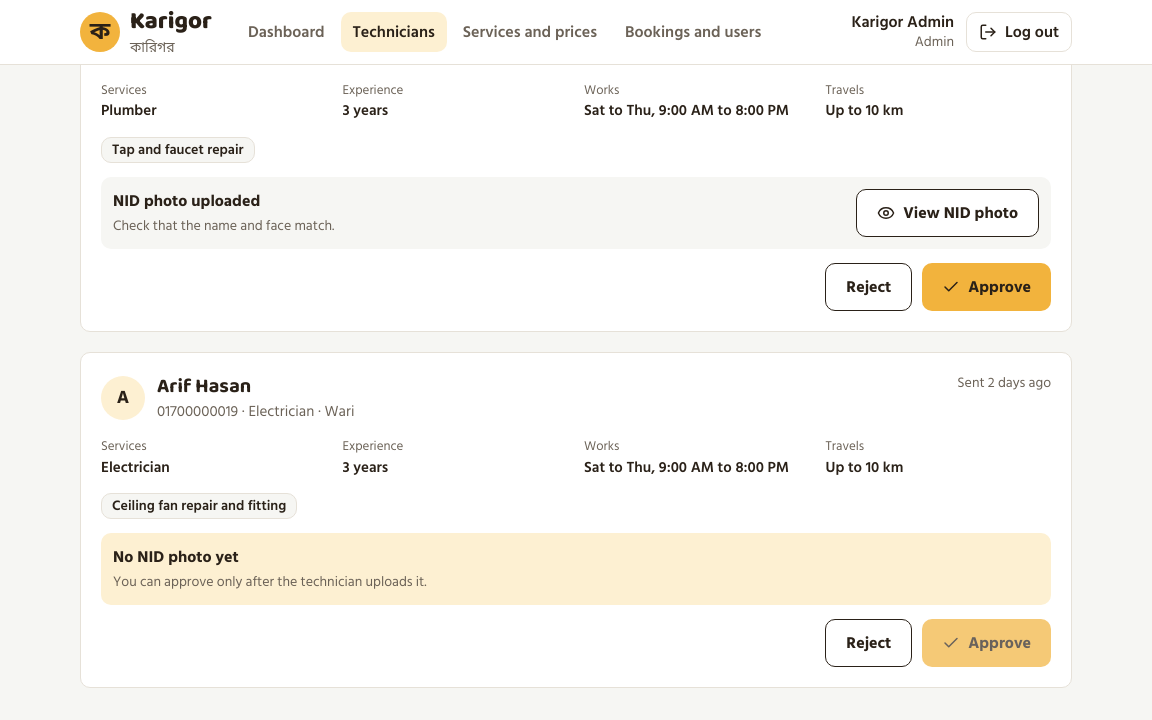
Test: waiting technicians › asks for a reason before rejecting
(page scrolled)
Expected: the element "Arif Hasan" is shown, [80,352,1072,688]
Click the 2nd button "Reject": [869, 643] box [825,619,912,667]
(page scrolled)
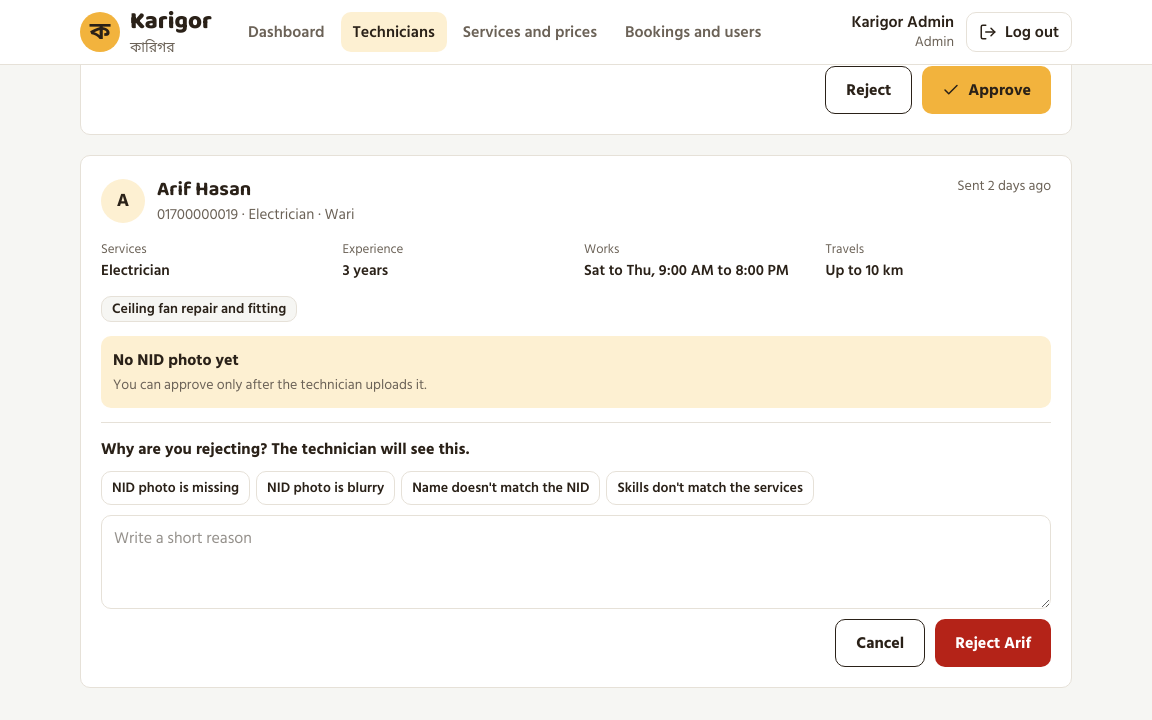
Click the button "Reject Arif": [993, 643] box [935,619,1051,667]
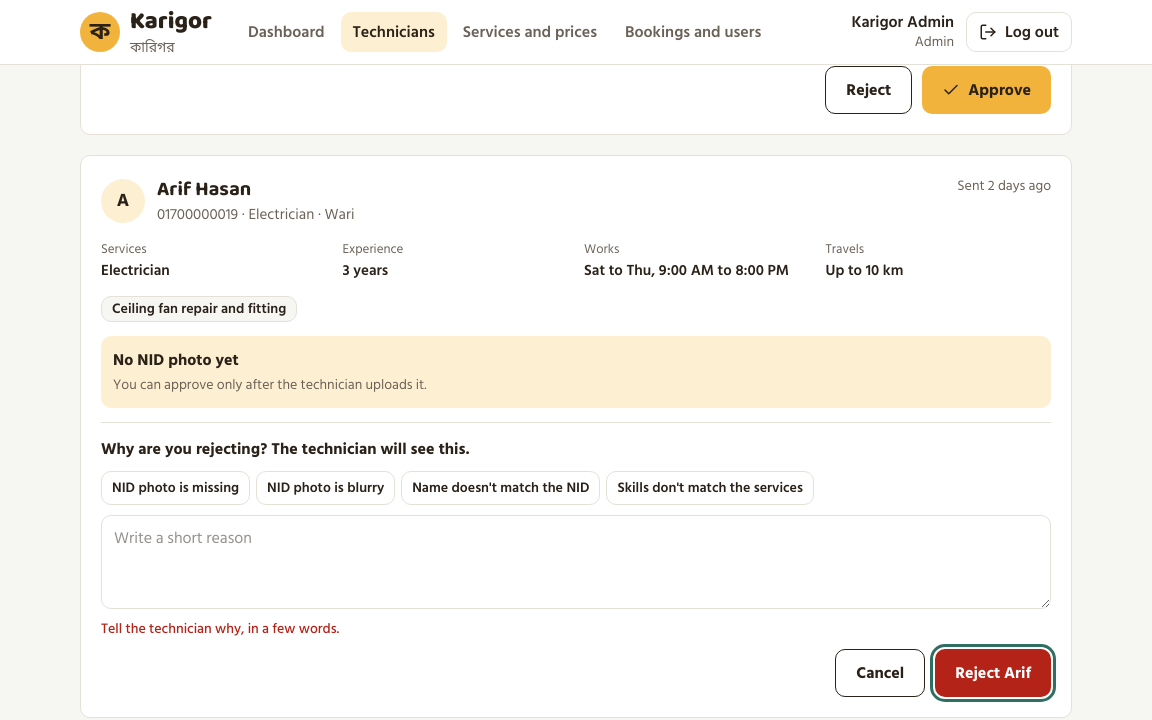
Result: the text "Tell the technician why, in a few words." is shown at [101,617,339,640]
